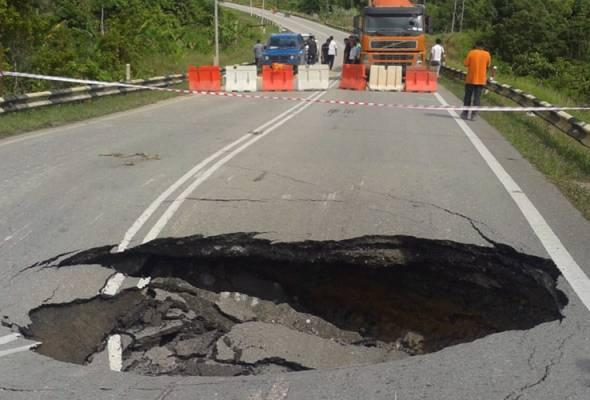Pothole: (19, 217, 590, 389)
